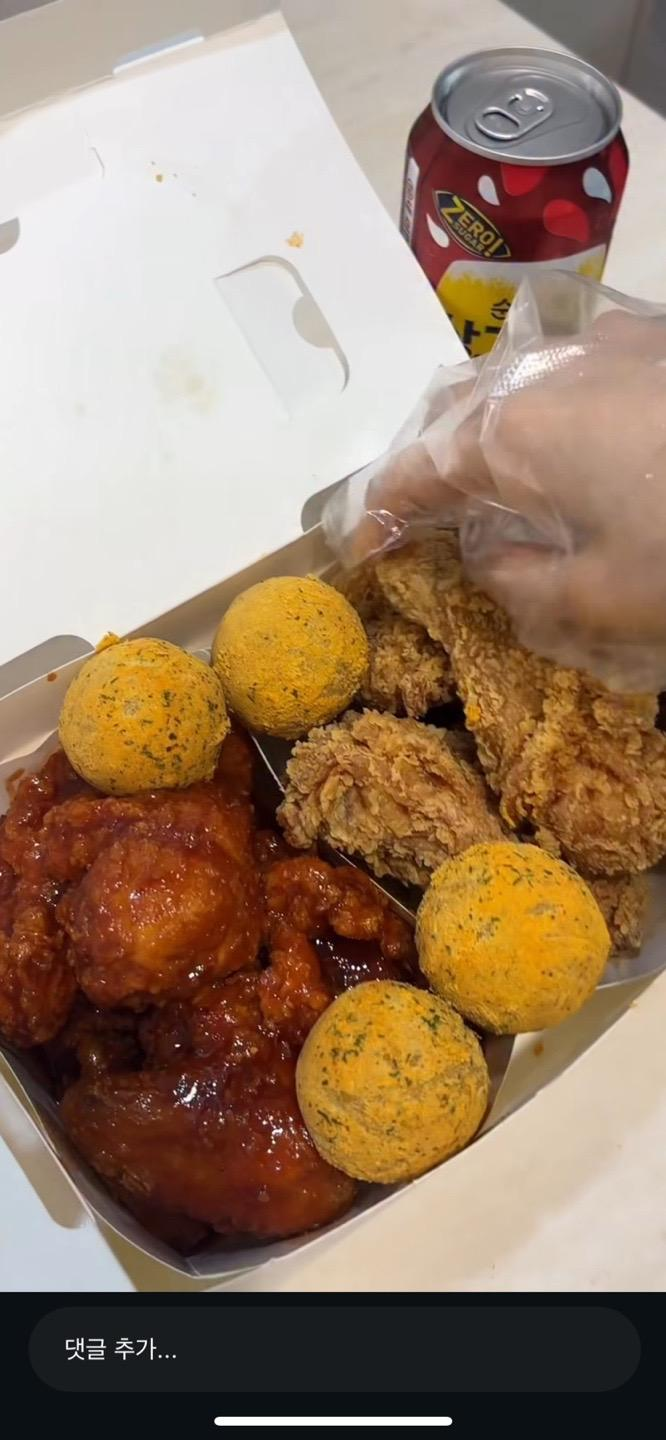Lunch Box: (0, 0, 665, 1279)
